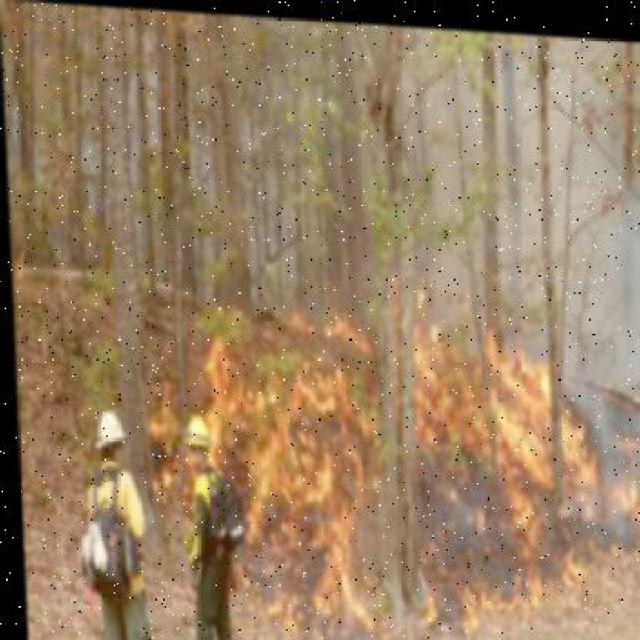fire: (212, 332, 601, 530)
